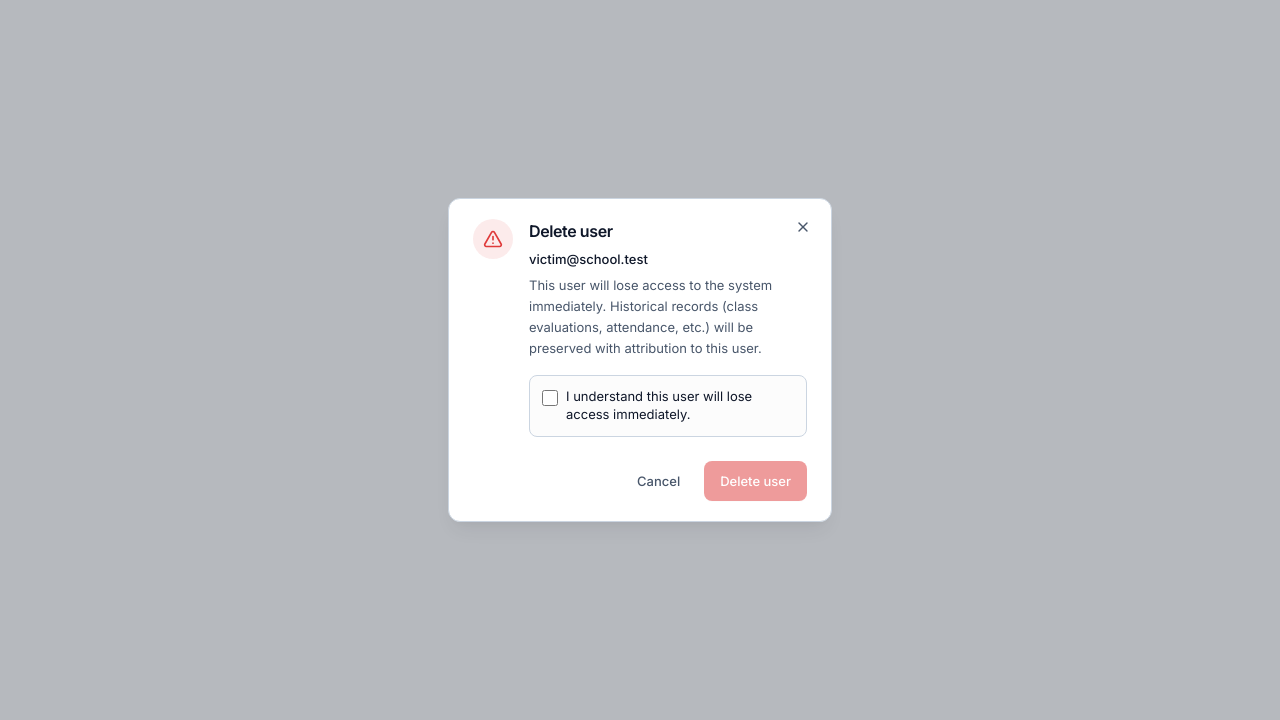
Test: DeleteUserDialog › on 403: shows the rewritten 'no permission' message (not the raw backend text)
What coordinates should you click on to do the following:
click the checkbox
I would click on:
 (550, 398)
Its box is x1=542 y1=390 x2=558 y2=406.
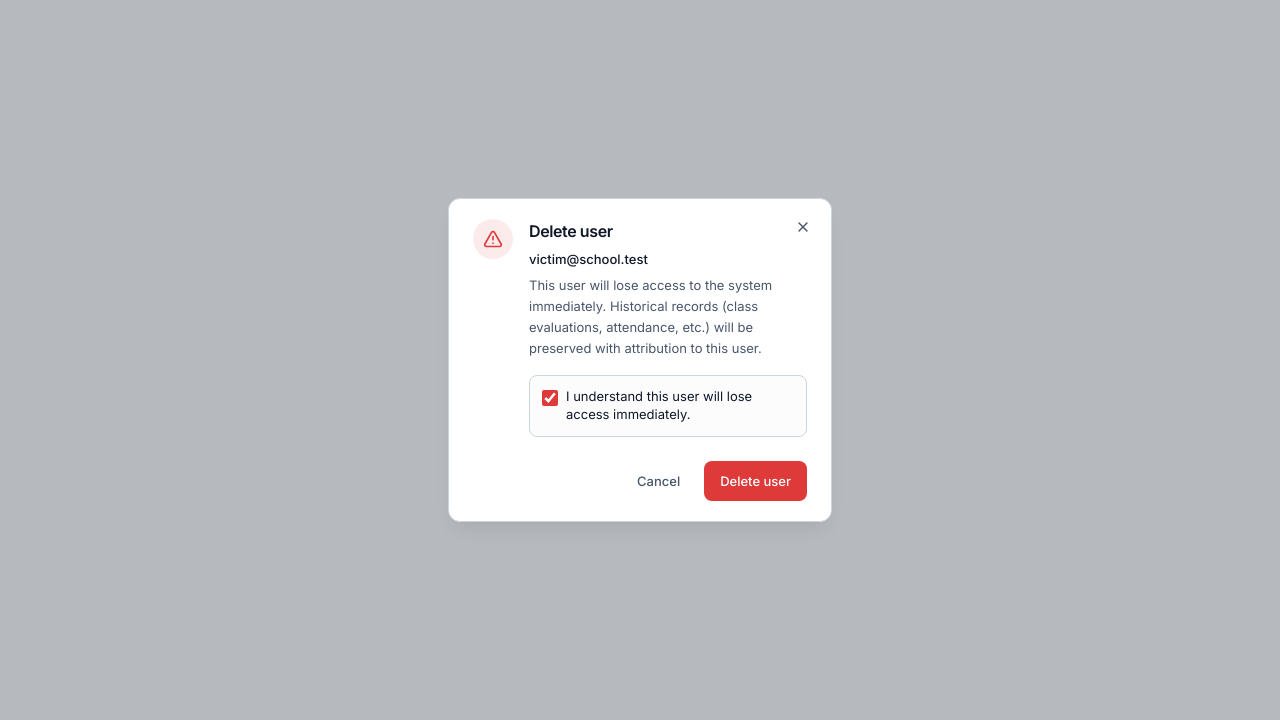
What coordinates should you click on to do the following:
click the button "Delete user"
I would click on:
 (756, 481)
Its box is x1=704 y1=461 x2=807 y2=501.
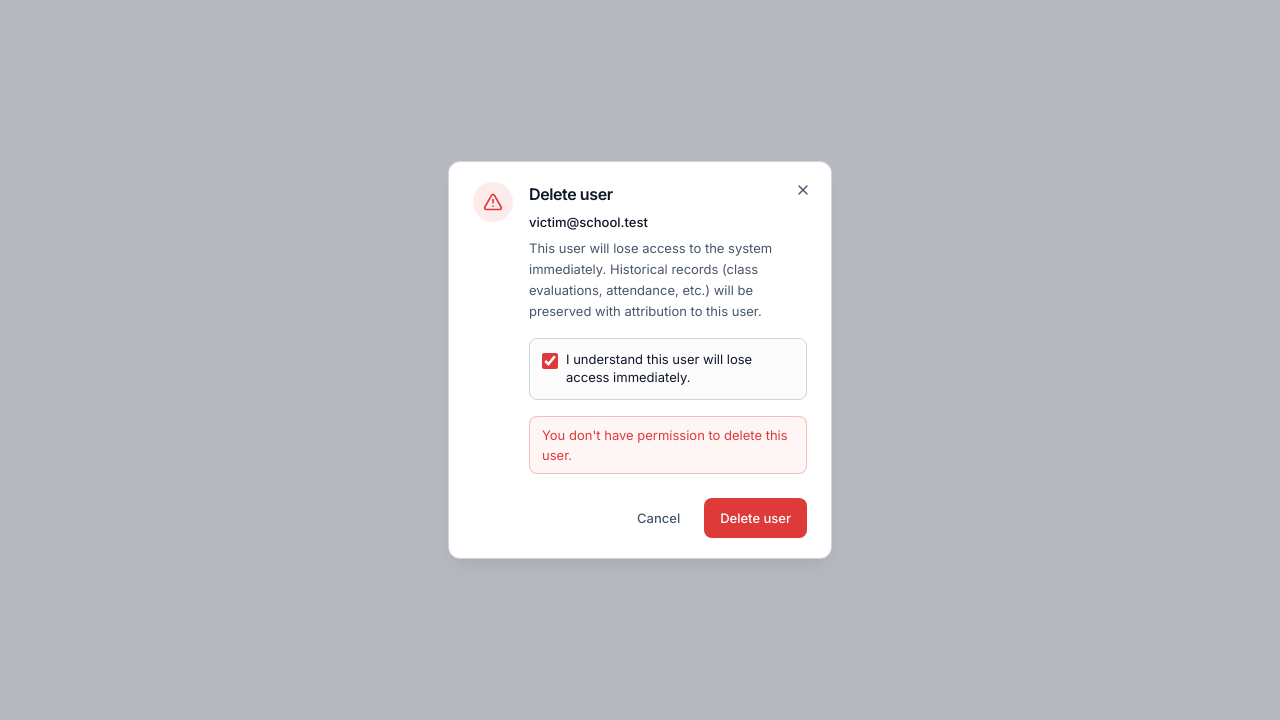
expect the message reads "You don't have permission to delete this user.": met, box x1=542 y1=427 x2=788 y2=463
